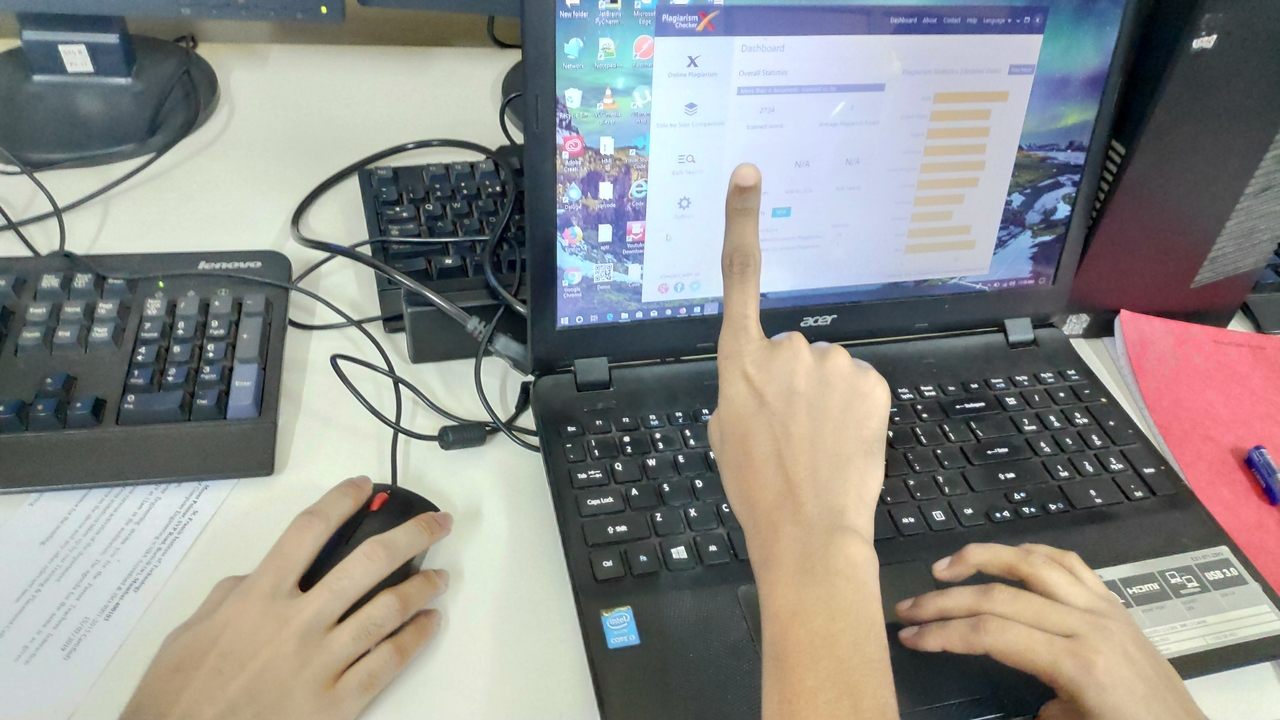fingertip: (722, 154, 770, 198)
